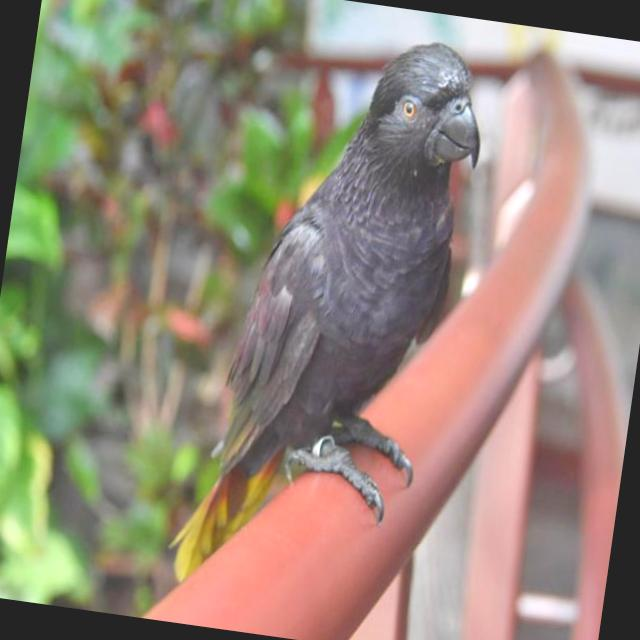Nuri Hitam: (151, 5, 500, 621)
